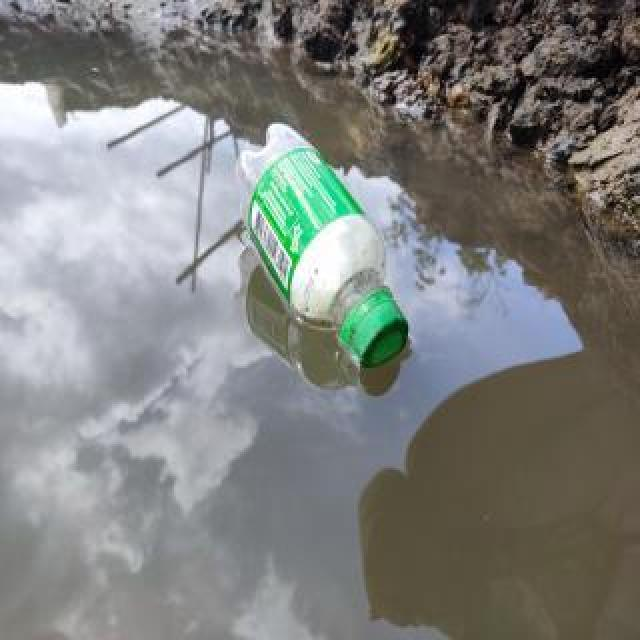bottle: (232, 118, 412, 374)
